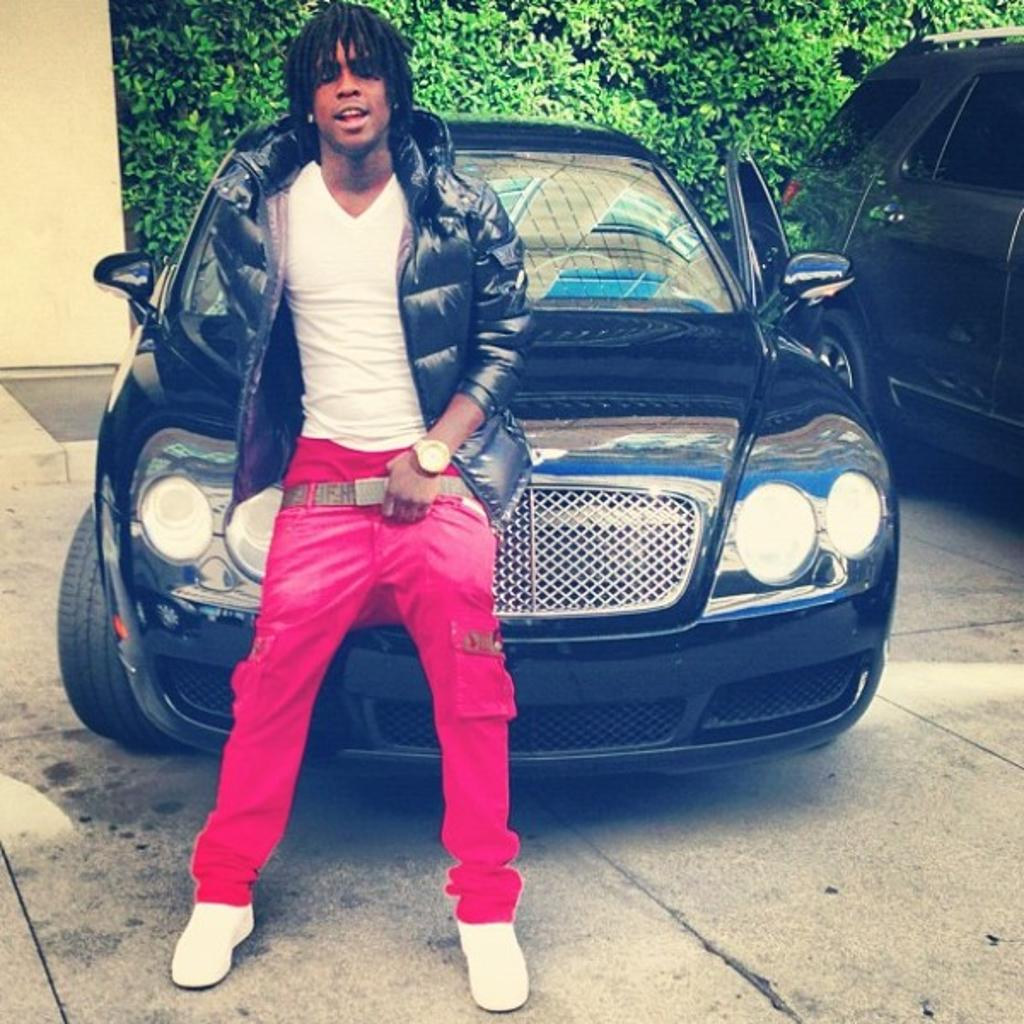face: (306, 30, 390, 148)
